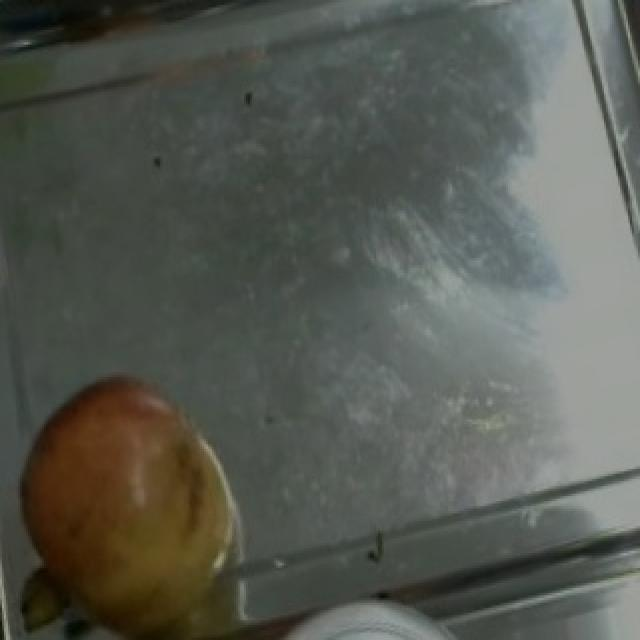fruit: (0, 347, 262, 603)
